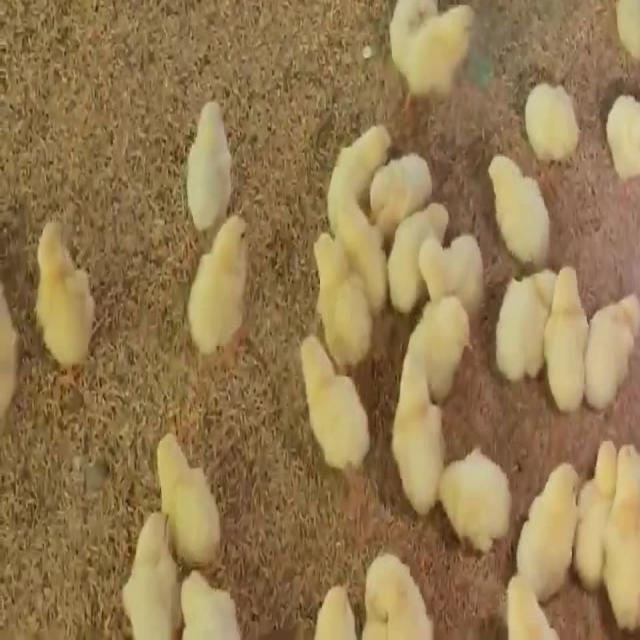poussin: (22, 207, 94, 380), (305, 343, 380, 492), (507, 447, 584, 579), (299, 224, 376, 352), (187, 217, 254, 355), (154, 427, 226, 555), (120, 496, 183, 638), (387, 350, 444, 498), (358, 540, 439, 640), (388, 0, 471, 96), (599, 441, 639, 620), (486, 153, 552, 257), (184, 88, 234, 221), (440, 438, 505, 535), (382, 198, 444, 298), (546, 260, 588, 404), (182, 552, 250, 640), (574, 425, 614, 567), (588, 279, 638, 388), (494, 268, 550, 363), (519, 74, 582, 156), (360, 140, 431, 210), (414, 222, 487, 288), (321, 116, 397, 176), (411, 294, 478, 357), (600, 97, 640, 174)
